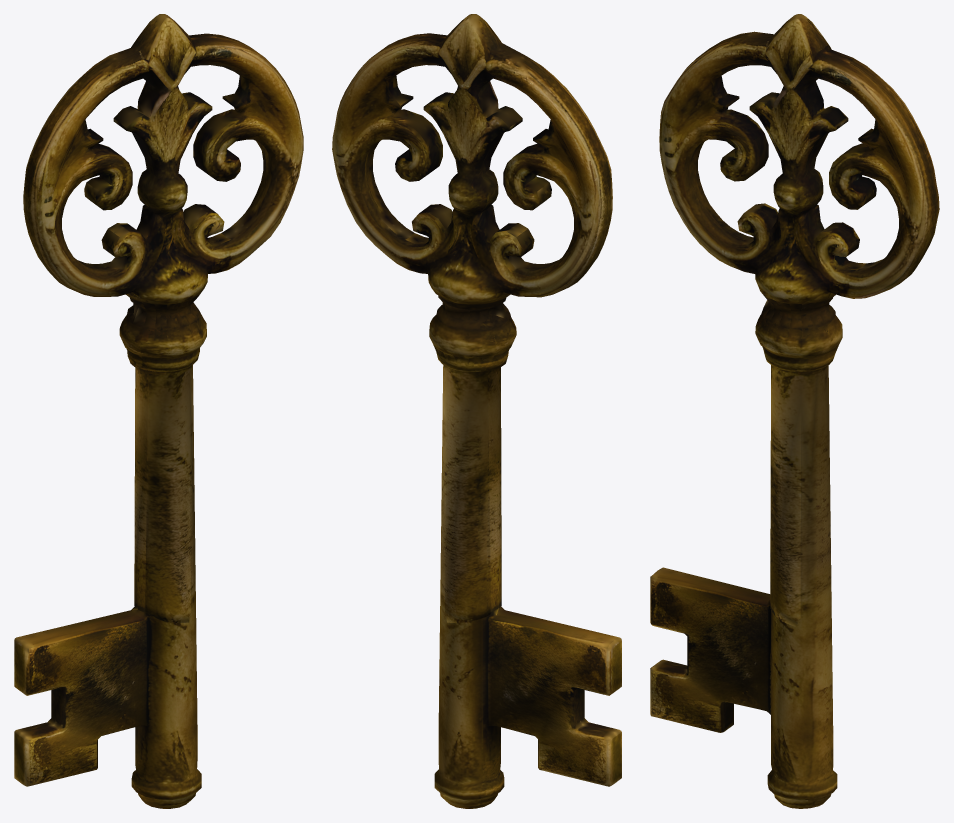
The model's file is key.glb.
3 renders of one model, left to right at view 1: azimuth 30°, elevation 25°; view 2: azimuth 150°, elevation 25°; view 3: azimuth 330°, elevation 25°, orthographic.
Parts seen in each view (by area): view 1: material; view 2: material; view 3: material.
Boxes of the visible parts, x1,y1,x2,y2 form: material: (14,14,303,808); material: (332,14,621,808); material: (650,14,939,808).
Size of the model in its own units: 0.7075 by 1.9 by 0.1923.
1 material, 1 textured.
